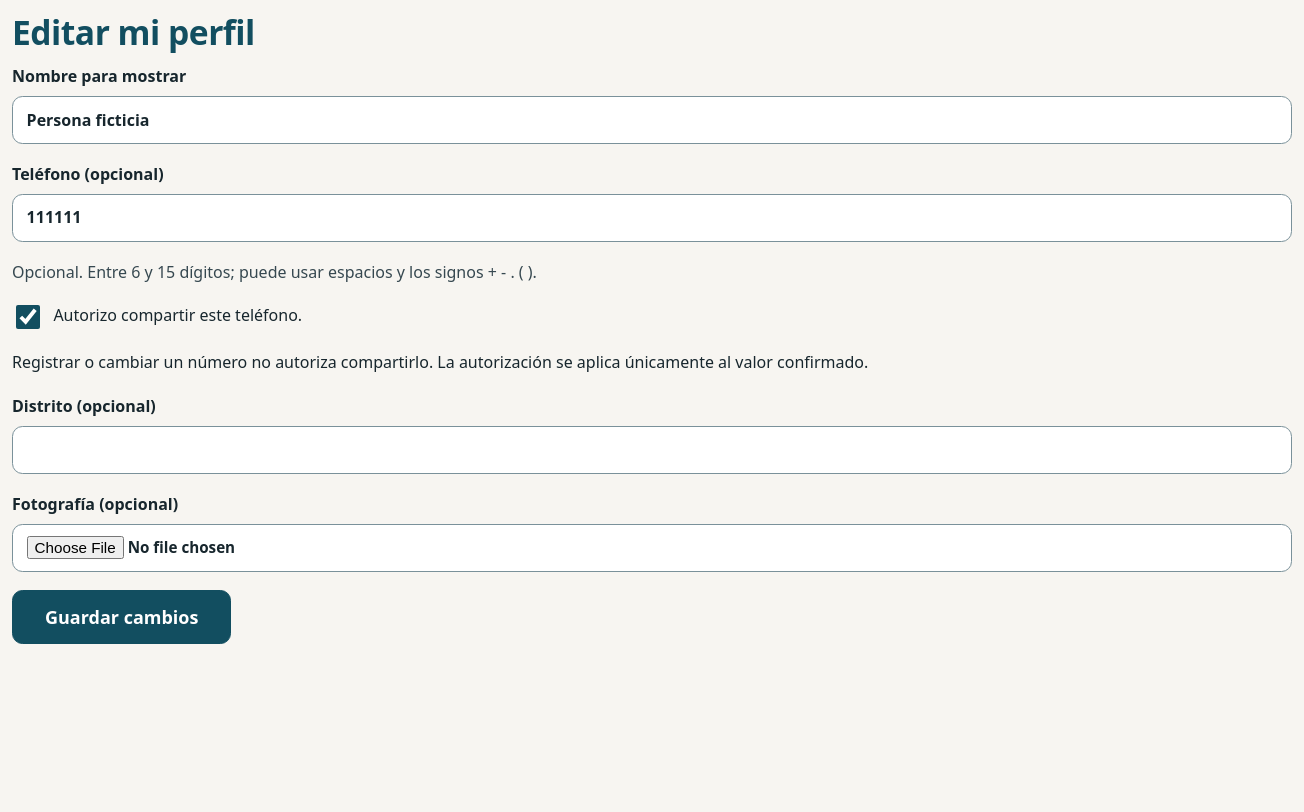
CA-PER-03 conflicto conserva borrador y no reintenta ni sobrescribe automáticamente
Later steps or results of the test are not shown.
Replace the text in the field labelled "Nombre para mostrar" with "Mi borrador" at (652, 120), box [12,96,1292,144]
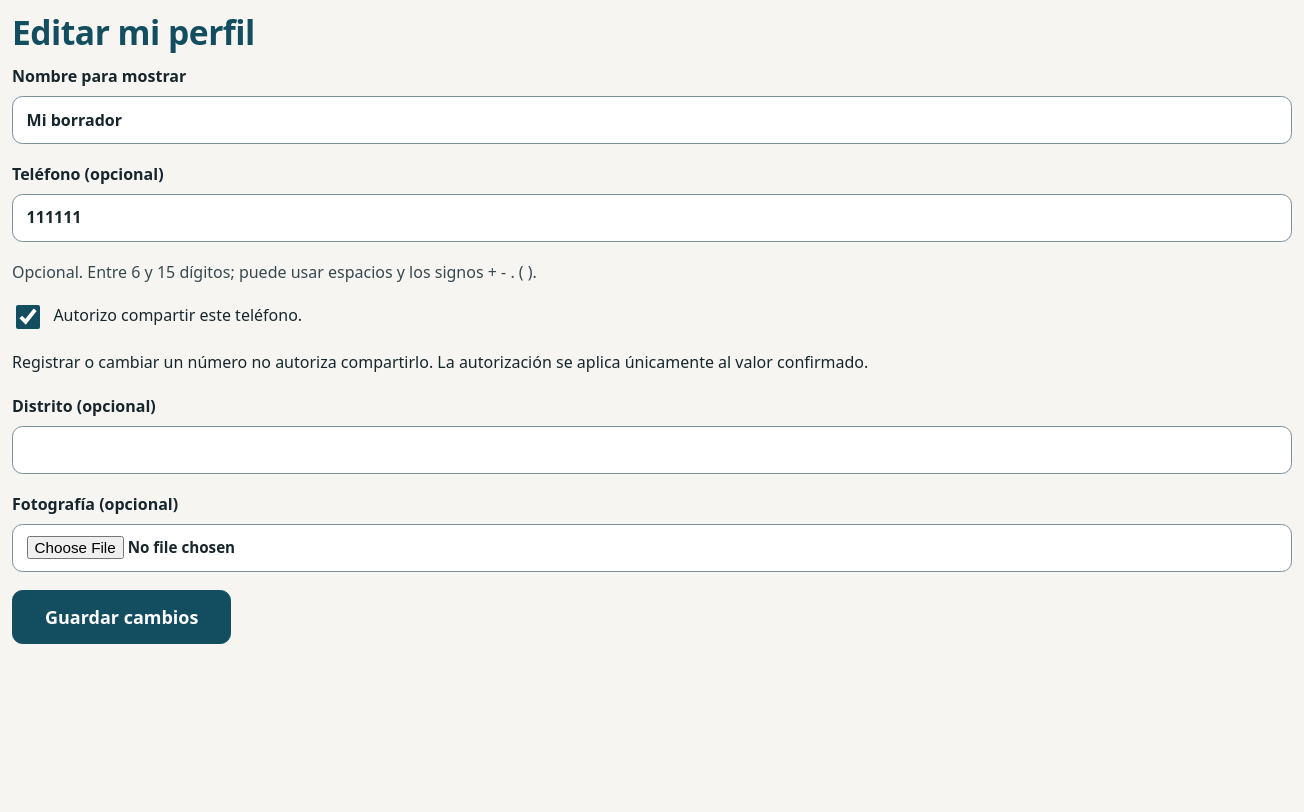
Click the button "Guardar cambios" at (122, 617), box [12,590,231,644]
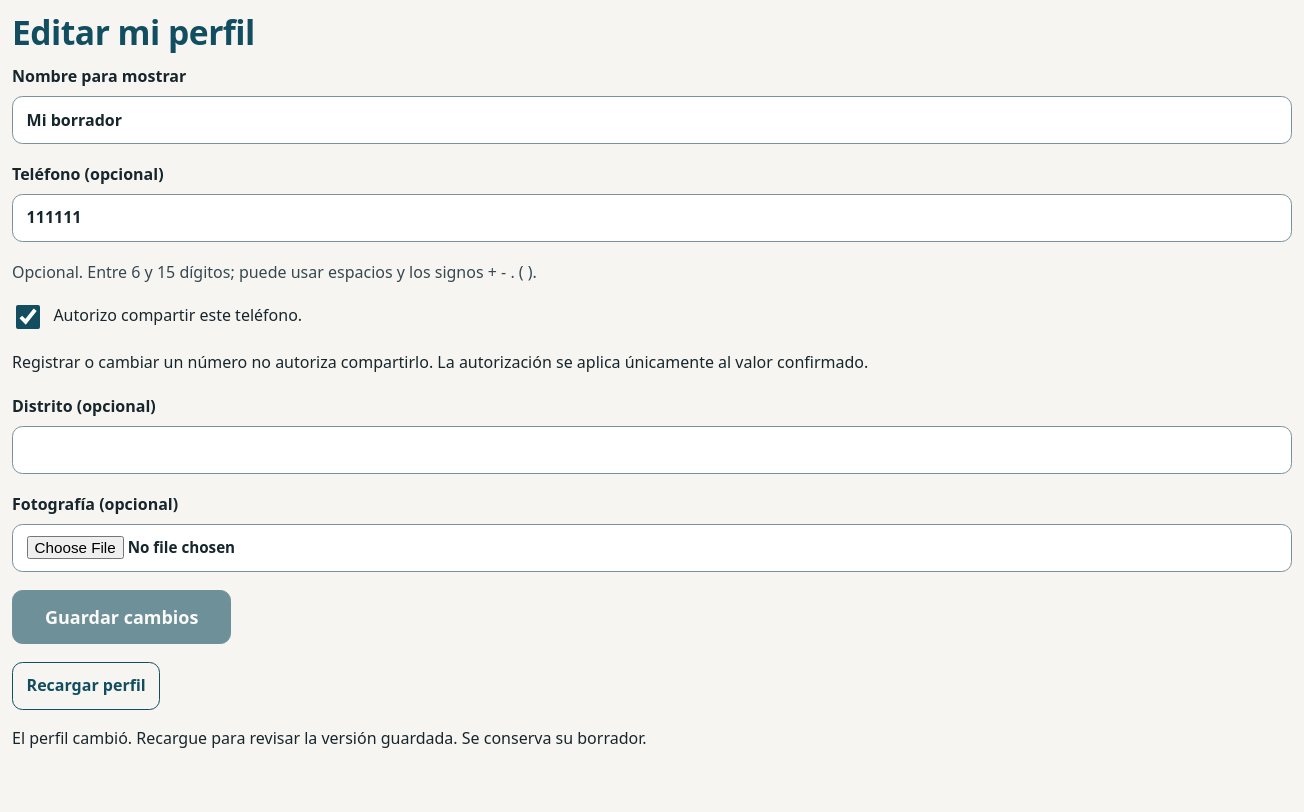
Now the text "Recargue para revisar" is shown, box [12,727,646,749]
Now the button "Guardar cambios" is disabled, box [12,590,231,644]
